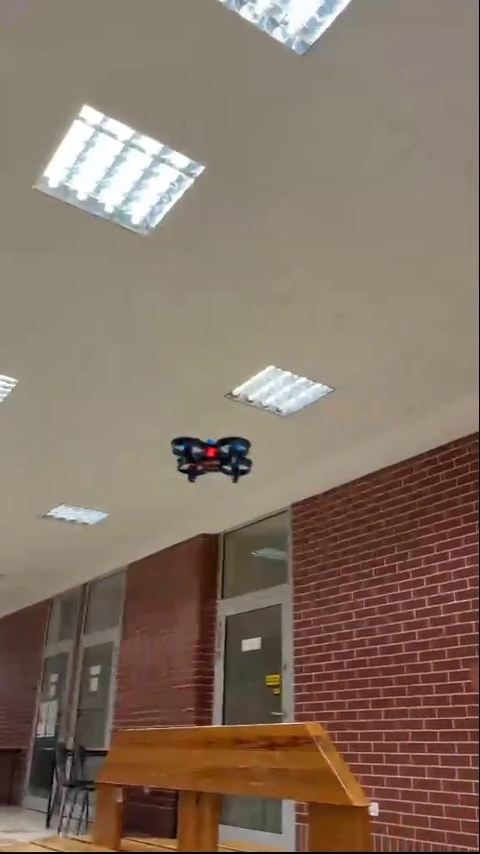drone: (166, 432, 258, 490)
